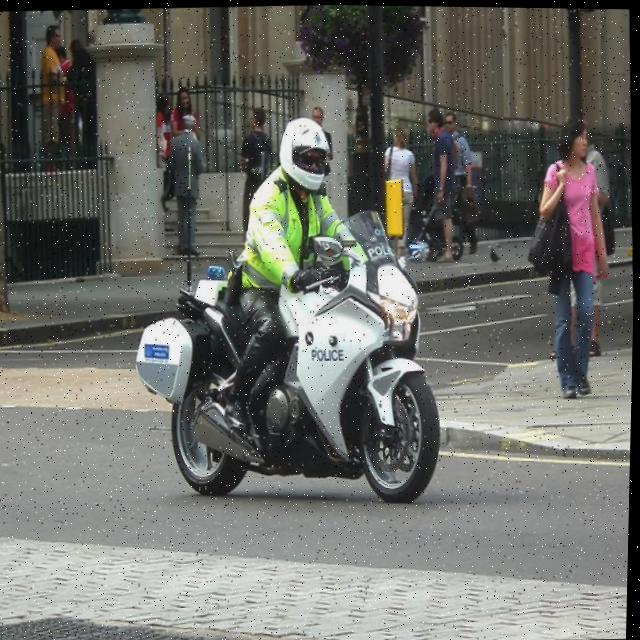motorcycle: (121, 203, 461, 524)
